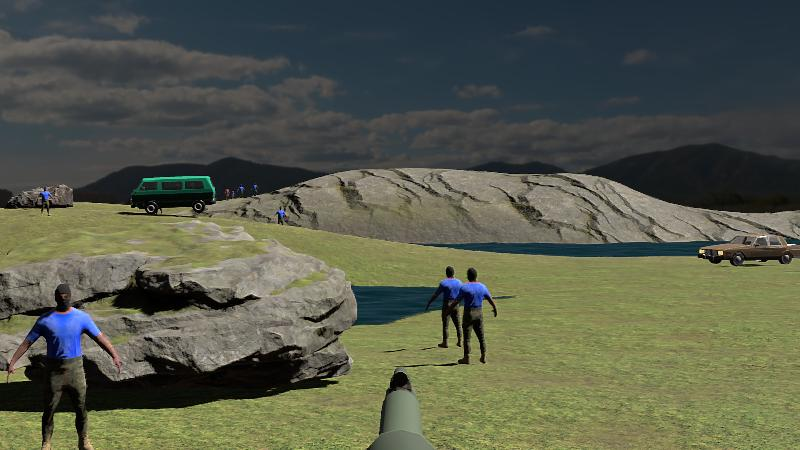Human: (9, 283, 122, 450), (445, 267, 497, 364), (426, 266, 476, 349), (426, 266, 475, 349)
car: (130, 175, 216, 214), (698, 234, 800, 266)
